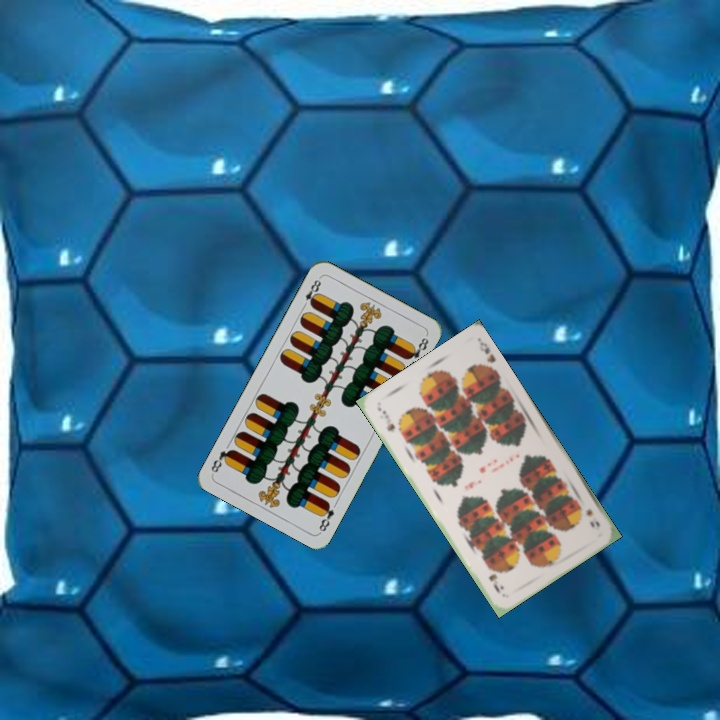E8: (298, 274, 324, 311), (315, 498, 337, 535)
S9: (373, 403, 398, 434), (582, 504, 602, 530)
